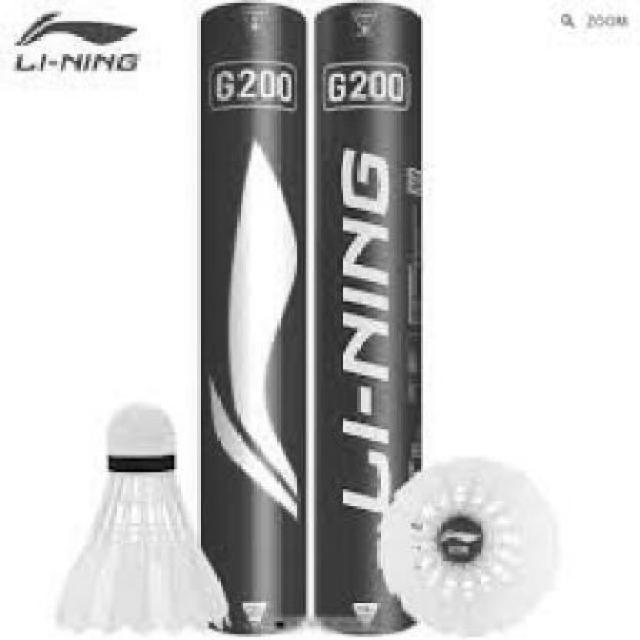Shuttlecock: (55, 405, 228, 632), (374, 452, 563, 640)
